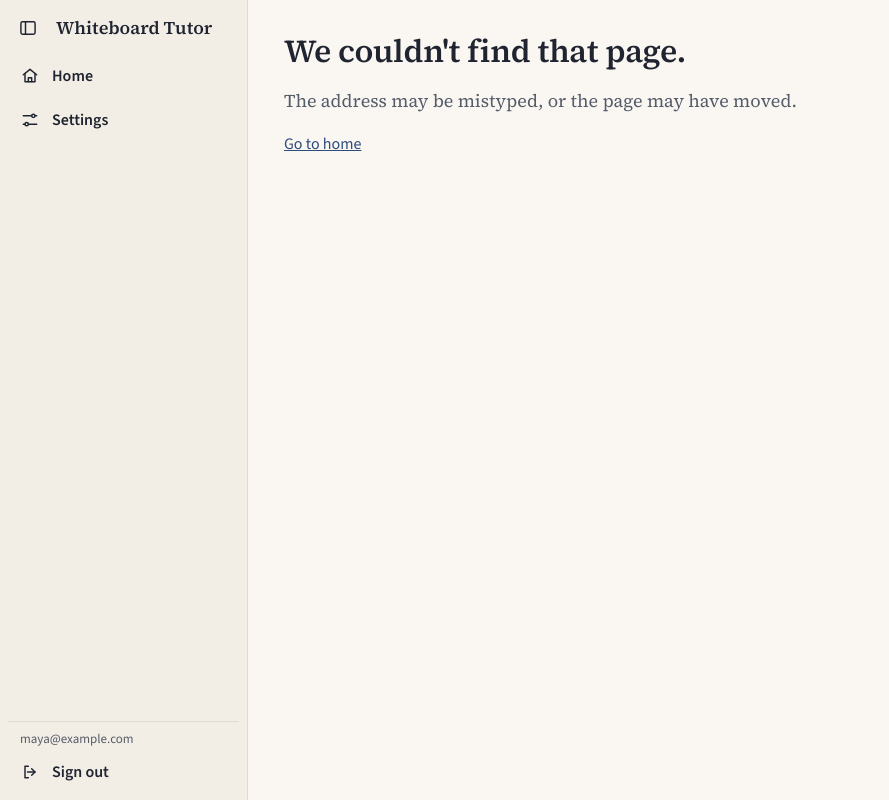
Test: Not found › shows an accessible not-found page with a link home
Expected: the heading "We couldn't find that page." is shown, [284,29,686,73]
Click the link "Go to home" at x=323, y=144, box [284,133,361,154]
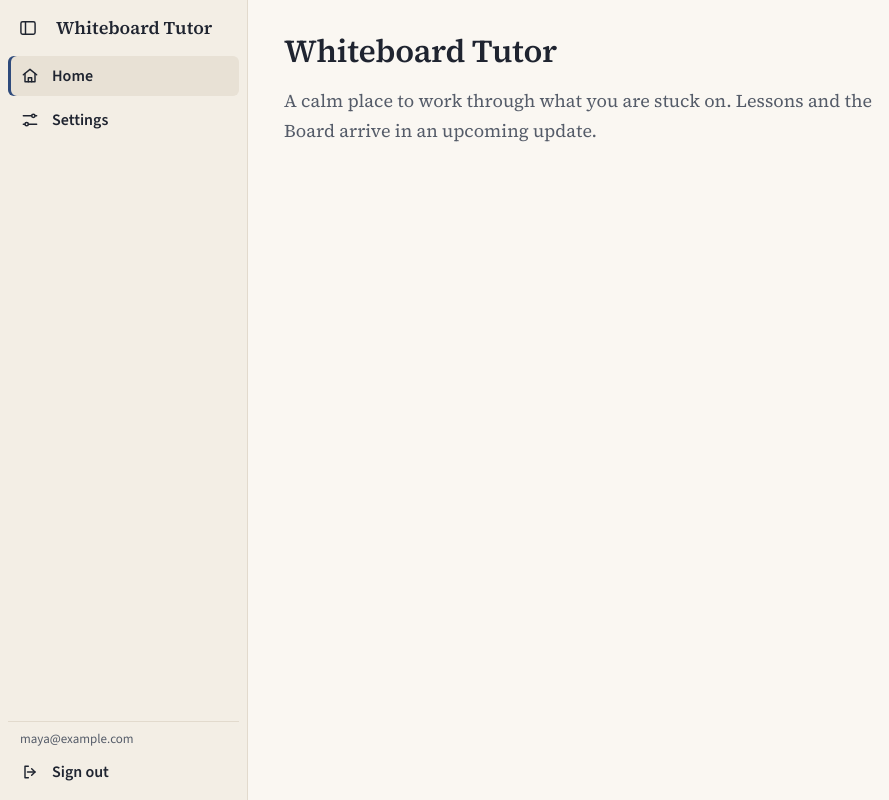
Expected: the heading "Whiteboard Tutor" is shown, [284,29,557,73]
